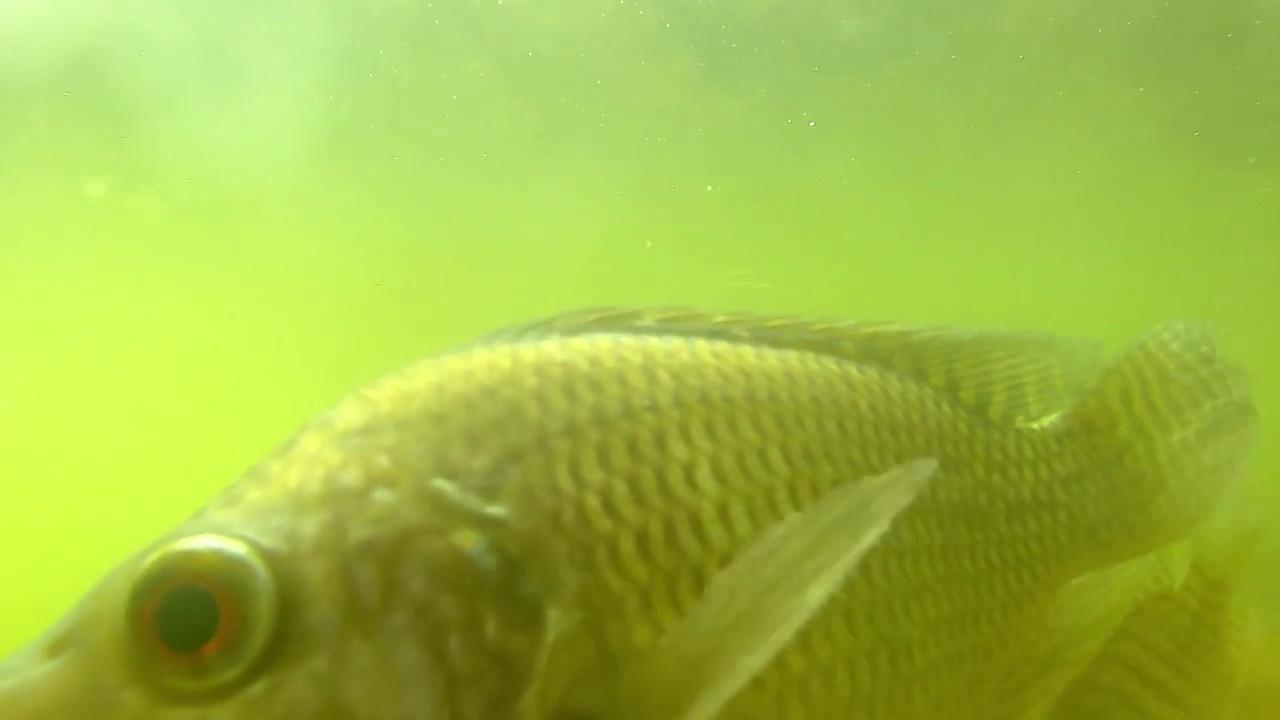Tilapia: (9, 300, 1280, 720), (1057, 522, 1280, 720)
